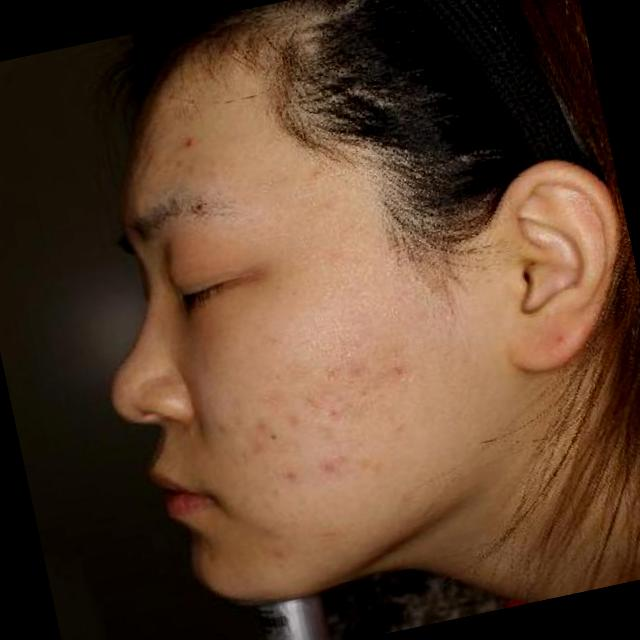darkspot: (386, 361, 413, 383)
nodules: (174, 130, 202, 155), (342, 357, 369, 381), (312, 456, 340, 478), (278, 466, 302, 486)
